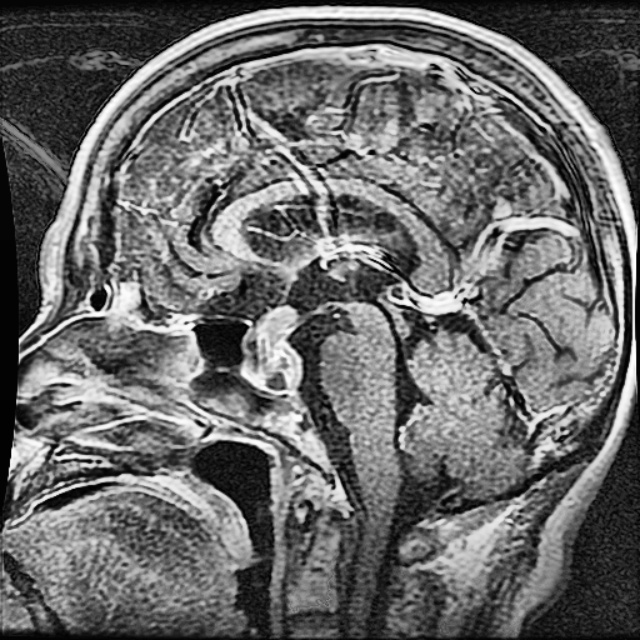Pituitary: (239, 302, 304, 397)
